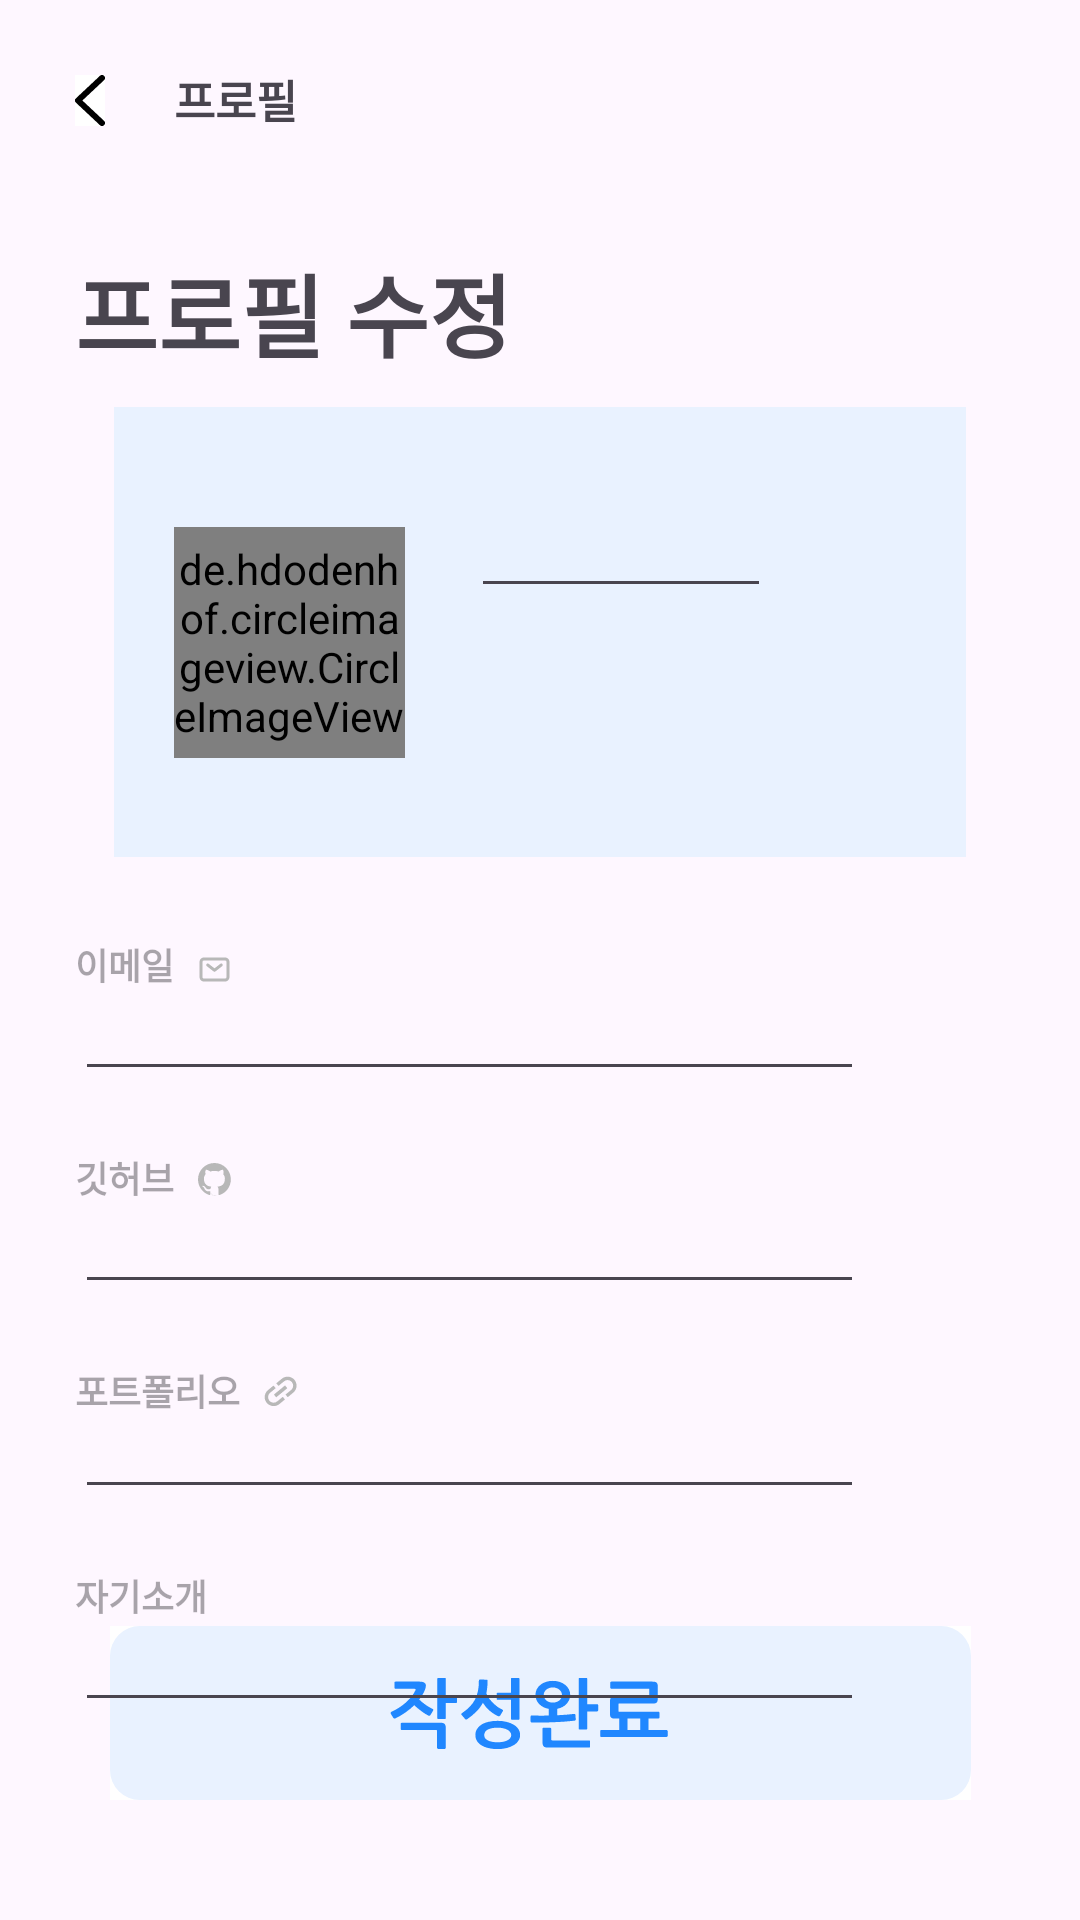

Icons on this 1080×1920 Android screen, each with the point to tap as point (x, y):
back: point (90, 100)
link: point (281, 1391)
